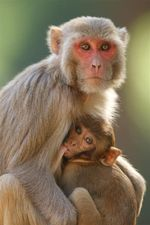monkey: (28, 13, 150, 174), (42, 116, 146, 217)
